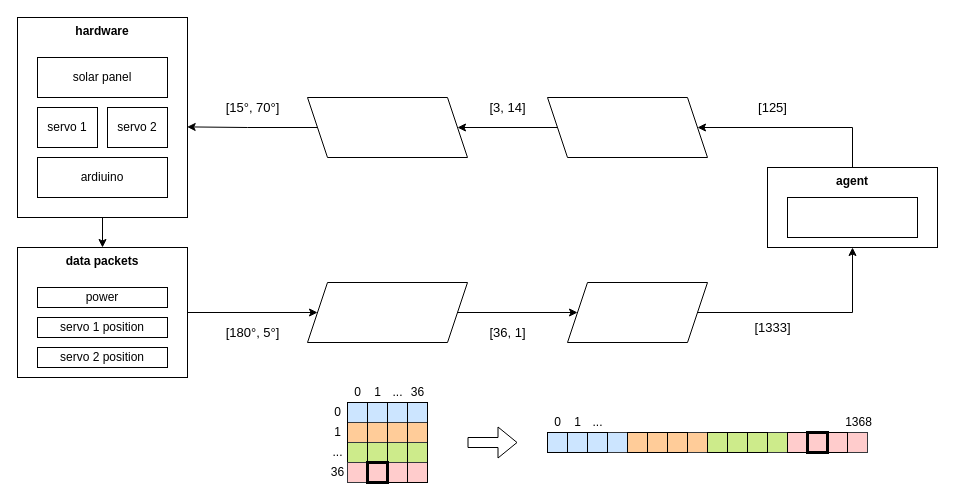
Some shapes in this 955 by 501 pixel diagram are drawn without their labels. Here are the shapes that lost their labels. From the top down, the centre of each, then its label:
At (387,127): "motor index to actual motor position".
At (627,127): "index of action to motor position index".
At (852,217): "selects action".
At (387,312): "each position to index of 0 -> 36".
At (637,312): "single index of state".
